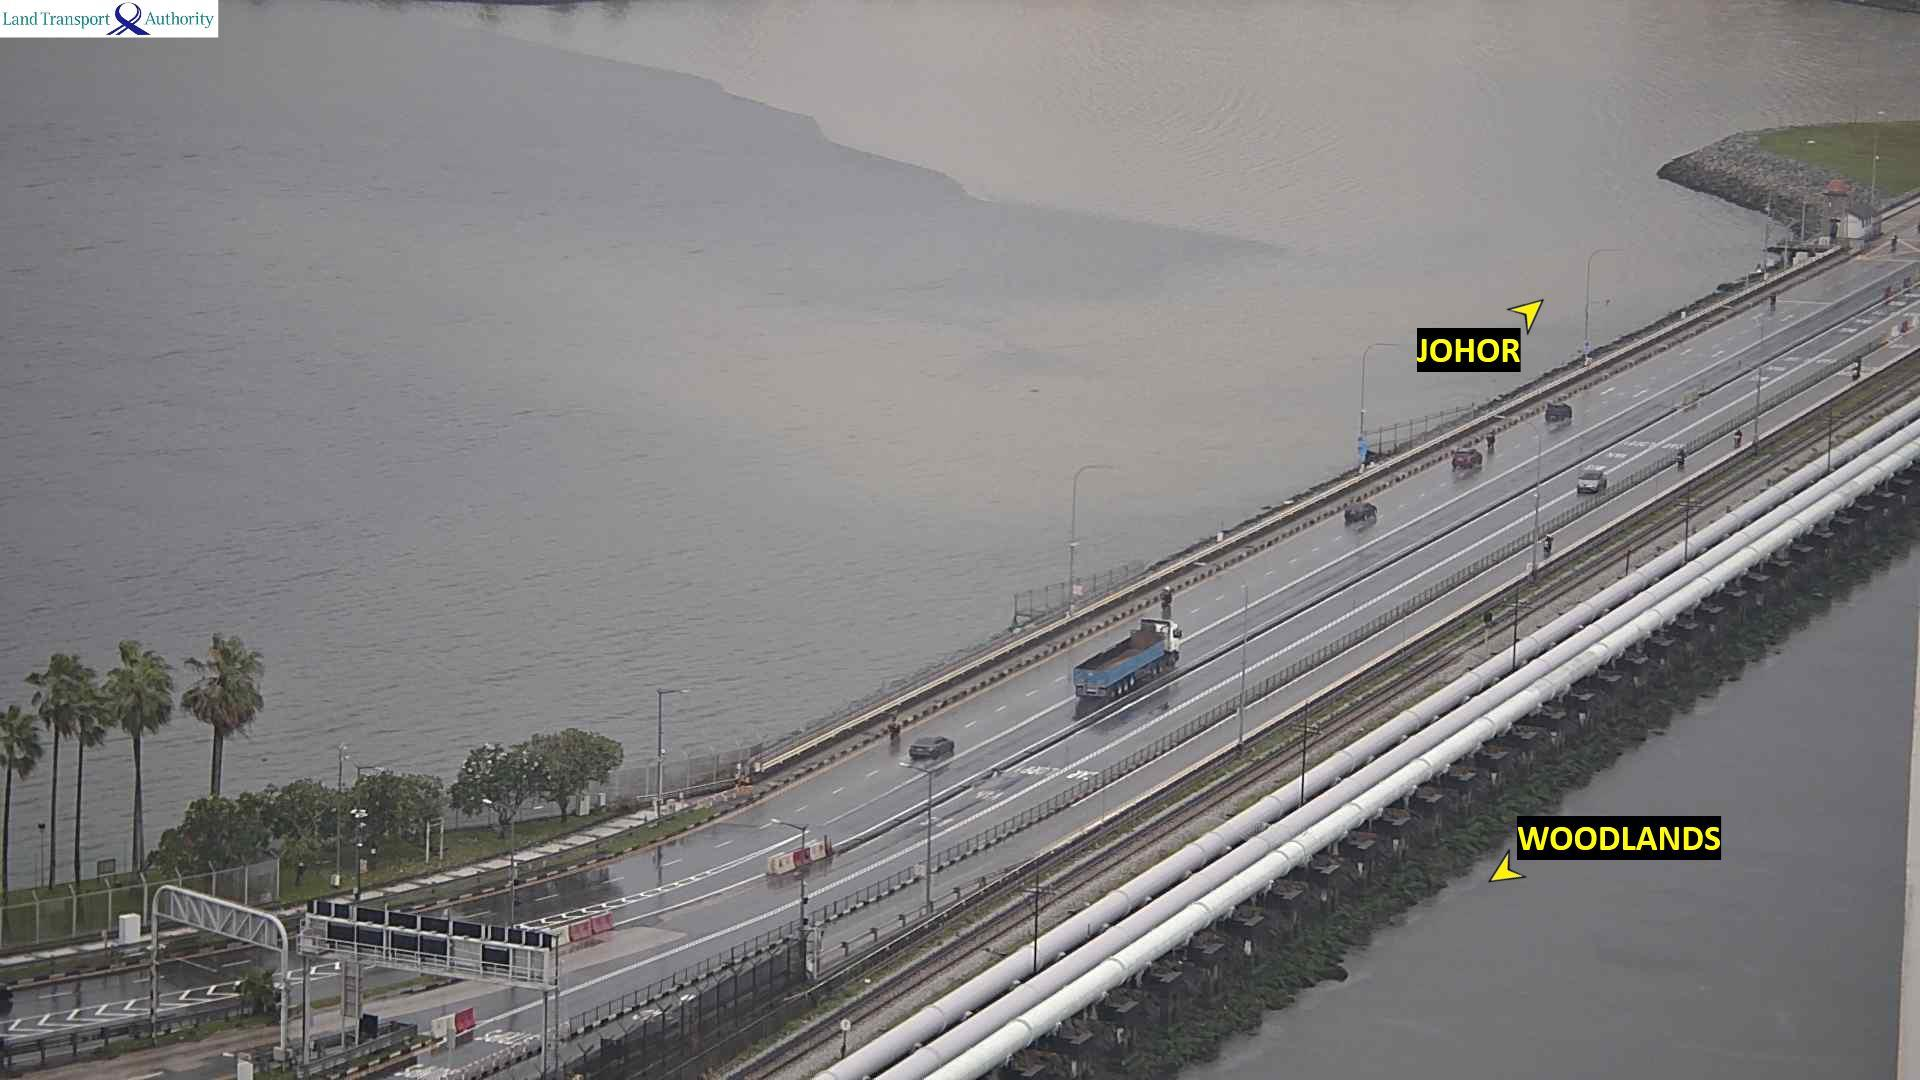vehicle-causeway-johor: (1075, 619, 1180, 714), (909, 735, 955, 763), (1345, 501, 1378, 524), (1453, 447, 1482, 473), (1546, 403, 1572, 428), (888, 715, 900, 741), (1888, 233, 1900, 256), (1487, 434, 1496, 451)
vehicle-causeway-singapore: (1576, 467, 1607, 495), (1543, 534, 1552, 556), (1733, 429, 1742, 450), (1853, 354, 1859, 383), (1676, 450, 1685, 469)
